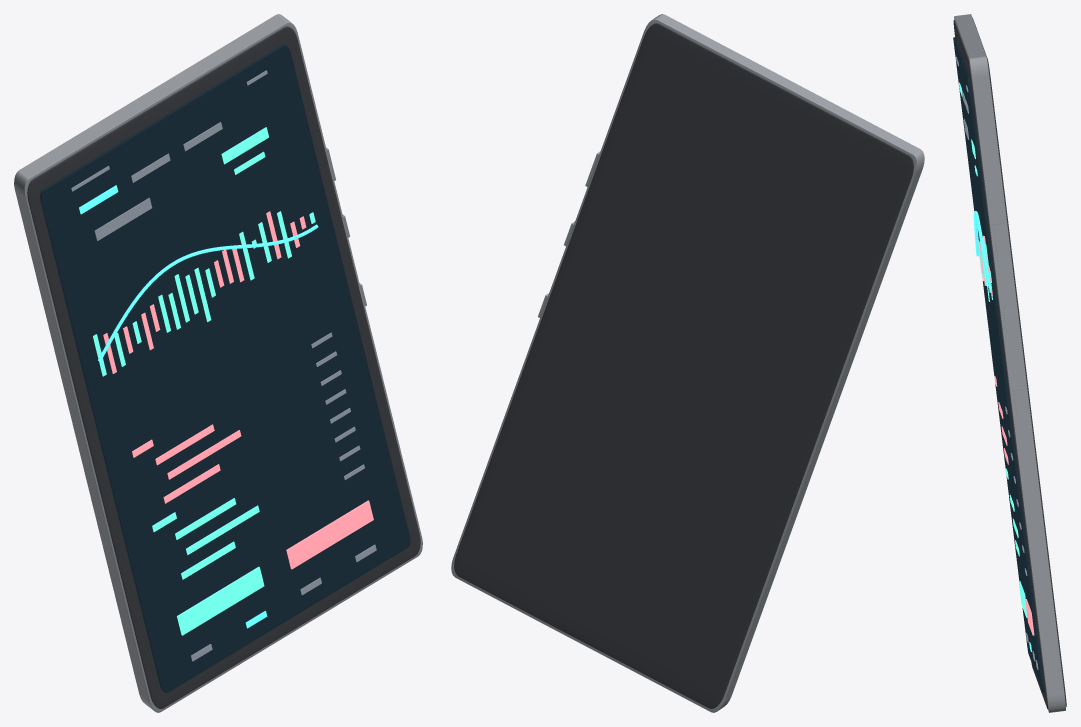
File: mobile_device.glb
The picture shows the model from 3 angles, left to right: view 1: azimuth 30°, elevation 25°; view 2: azimuth 150°, elevation 25°; view 3: azimuth 270°, elevation 25°; orthographic projection. The views are drawn at different scales.
Parts seen in each view (by area): view 1: PhoneScreen, PhoneBody, PhoneRail, PhoneSell, PhoneBuy, PhoneTrendLine, PhoneSymbol; view 2: PhoneBody, PhoneRail; view 3: PhoneRail, PhoneScreen, PhoneBody, PhoneTrendLine, SideBtn_034, SideBtn_n004, SideBtn_016.
Part boxes in pixels (<box>): PhoneScreen: <box>40,44,410,692</box>; PhoneBody: <box>27,26,420,708</box>; PhoneRail: <box>14,14,422,712</box>; PhoneSell: <box>286,500,373,569</box>; PhoneBuy: <box>177,566,264,635</box>; PhoneTrendLine: <box>98,224,318,361</box>; PhoneSymbol: <box>94,197,152,240</box>; PhoneBody: <box>454,23,913,708</box>; PhoneRail: <box>451,14,924,712</box>; PhoneRail: <box>954,14,1065,712</box>; PhoneScreen: <box>953,37,1044,692</box>; PhoneBody: <box>953,18,1066,709</box>; PhoneTrendLine: <box>973,211,991,288</box>; SideBtn_034: <box>993,223,1008,262</box>; SideBtn_n004: <box>1013,389,1026,416</box>; SideBtn_016: <box>1003,305,1016,331</box>.
Bounding box in the file's own units: 1.15 × 1.69 × 0.2646.
